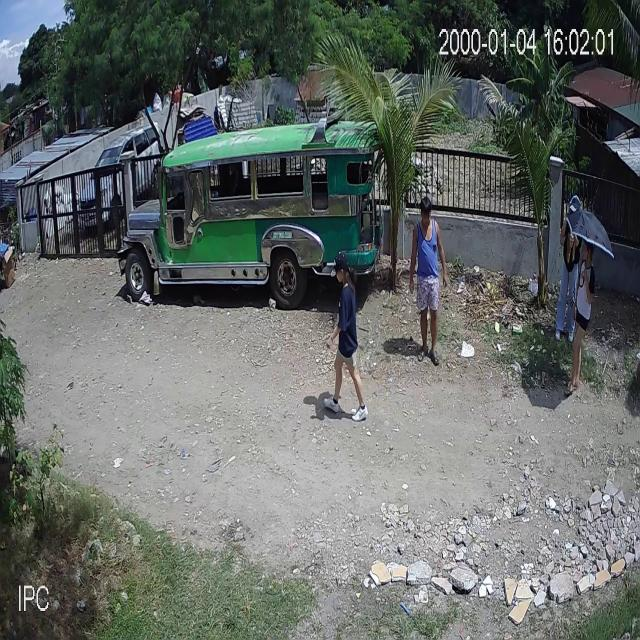standing: (554, 194, 586, 344)
walking: (328, 249, 368, 422), (410, 196, 445, 367), (566, 240, 595, 402)
